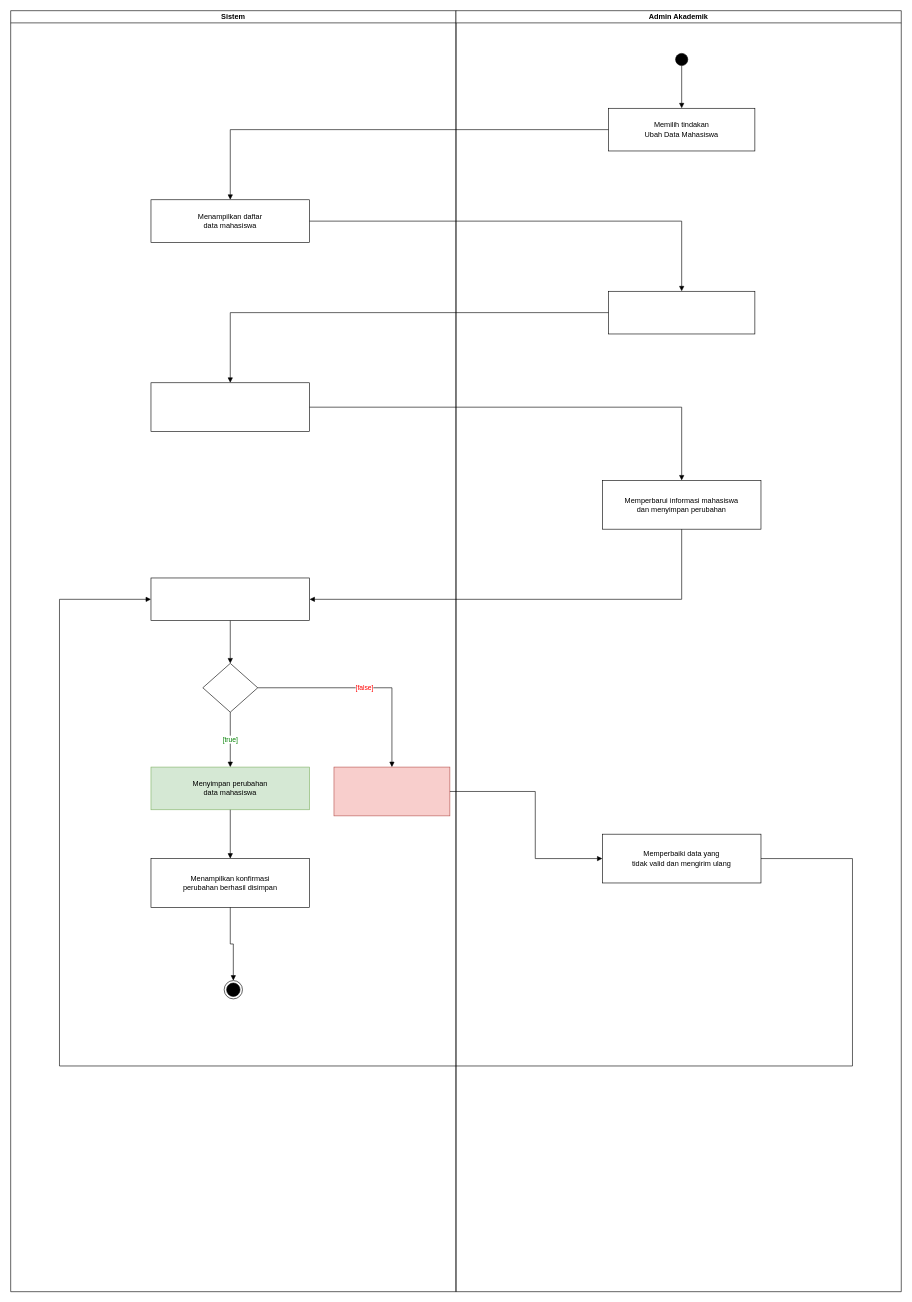
Image size: 912x1302. Some labels were removed from this diagram. Each missing label, with the centre of its shape:
"Memilih data mahasiswa yang akan diubah" goes at (681,312).
"Memvalidasi data mahasiswa" goes at (230,599).
"Menampilkan formulir berisi data mahasiswa yang dipilih" goes at (230,407).
"Menolak perubahan dan menampilkan pesan kesalahan" goes at (391,791).
